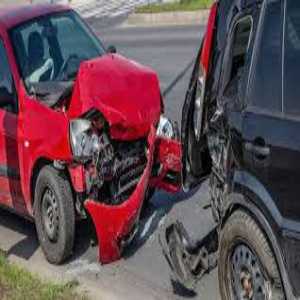bonnet: (74, 56, 163, 135)
bumper: (71, 133, 186, 260)
